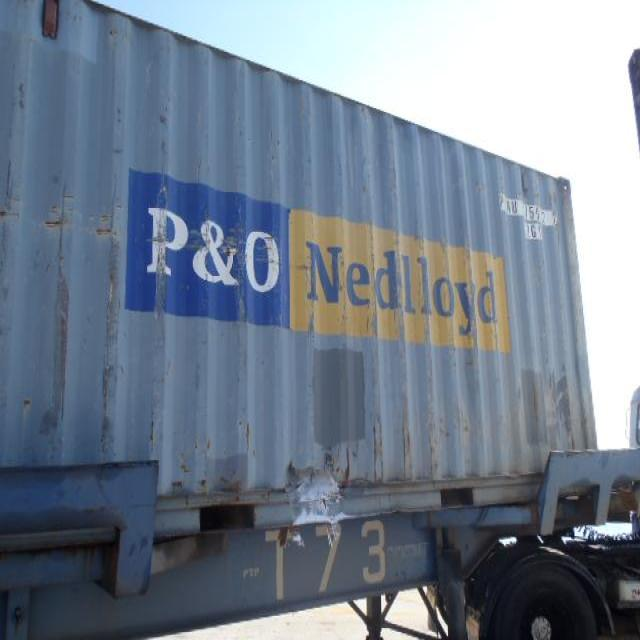hole: (45, 218, 67, 229), (97, 228, 117, 240), (1, 211, 20, 222), (23, 398, 34, 410)
